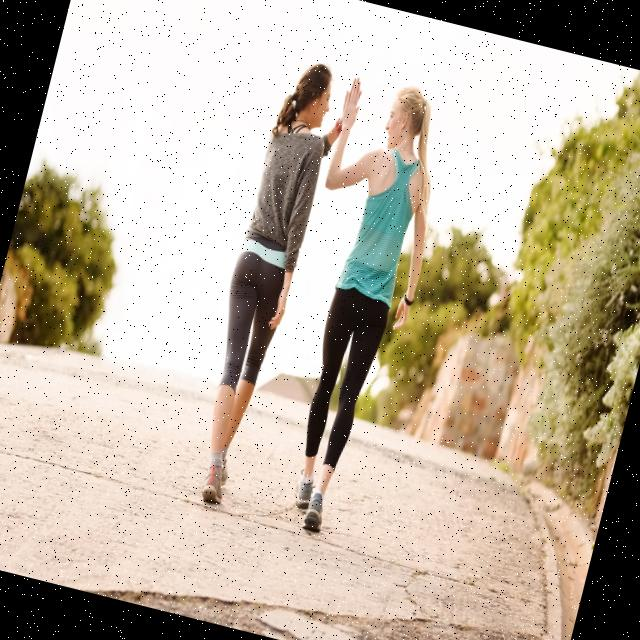Person: (242, 70, 464, 541), (177, 57, 367, 516)
